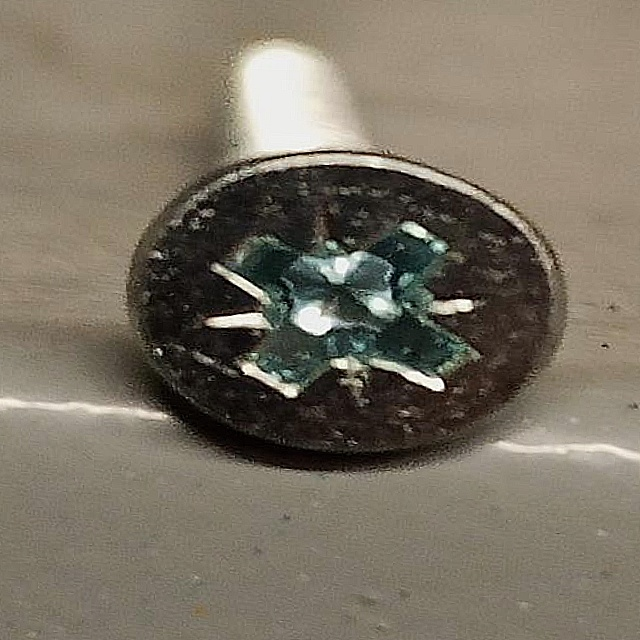pozidriv: (122, 142, 588, 475)
